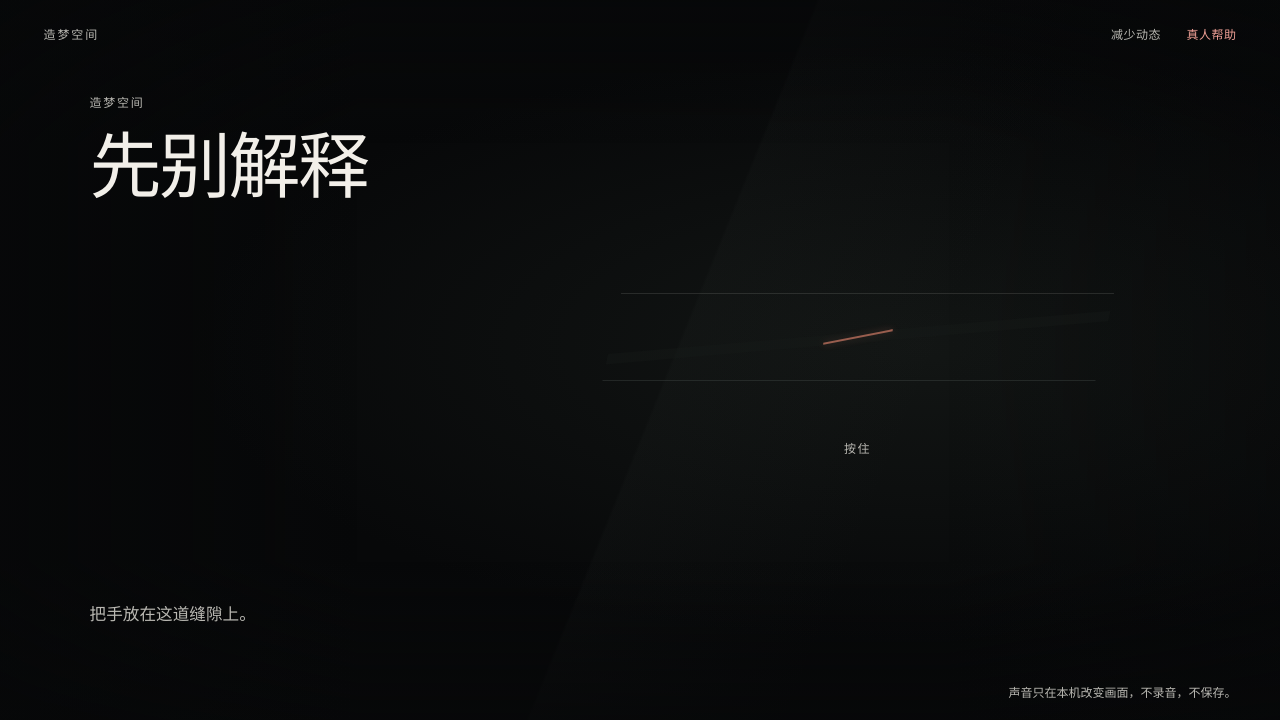
Test: Mindspace animation-first experience › moves from tactile sensing to a user-owned emotion word
Expected: the heading "先别解释" is shown, [90,115,368,213]
Press Enter in the button with aria-label "按住进入造梦空间", box [525,150,1190,525]
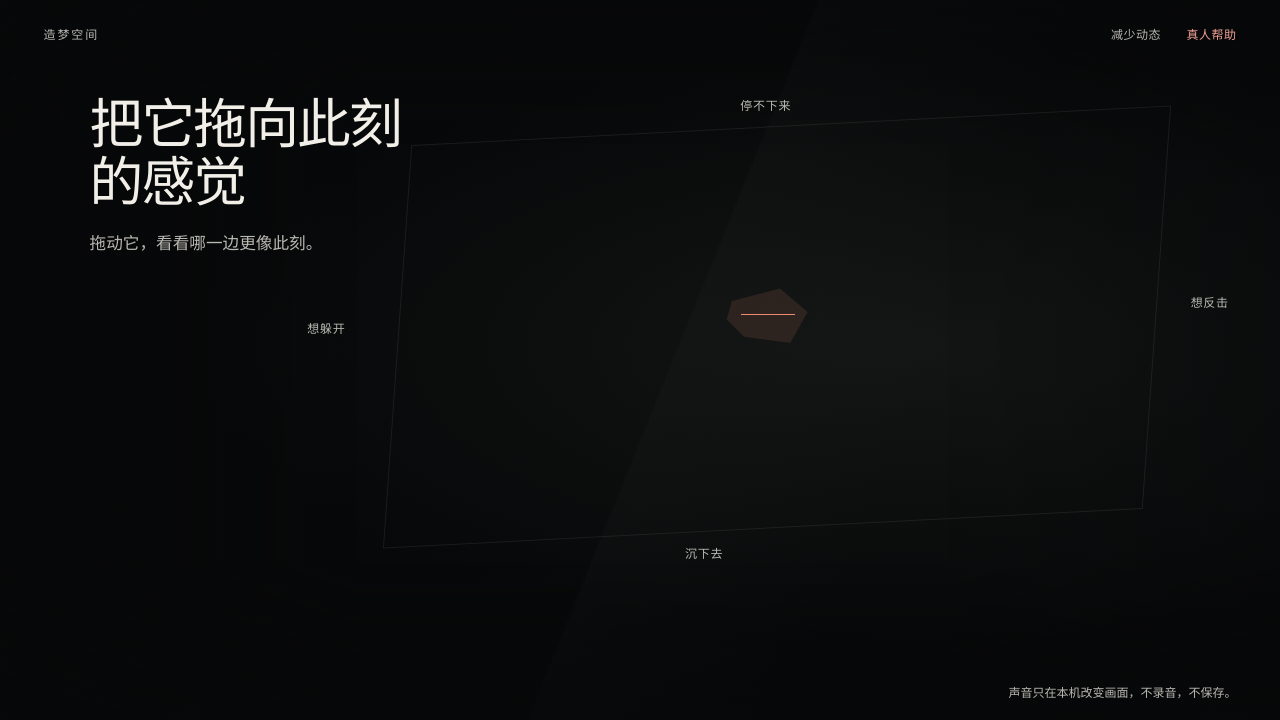
Press ArrowLeft in the button named "情绪核：使用方向键移动，按回车确认", box [725,286,811,348]
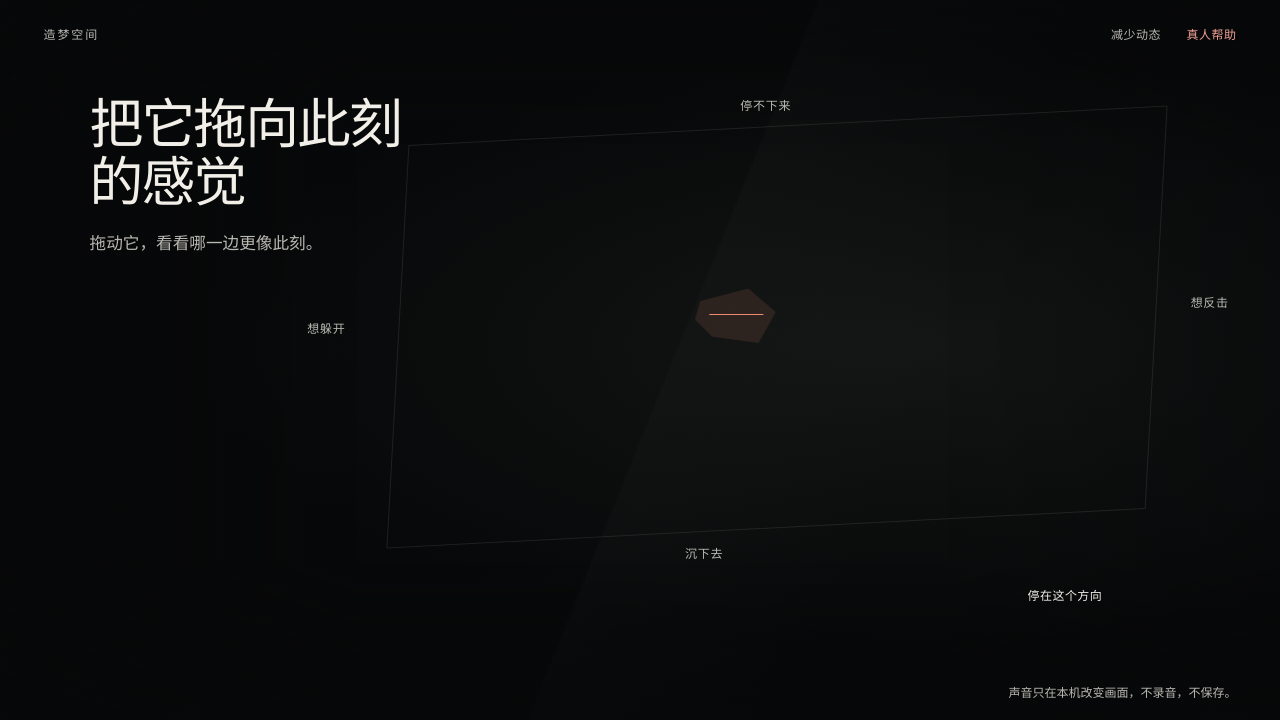
Press ArrowDown in the button named "情绪核：使用方向键移动，按回车确认", box [693,286,779,348]
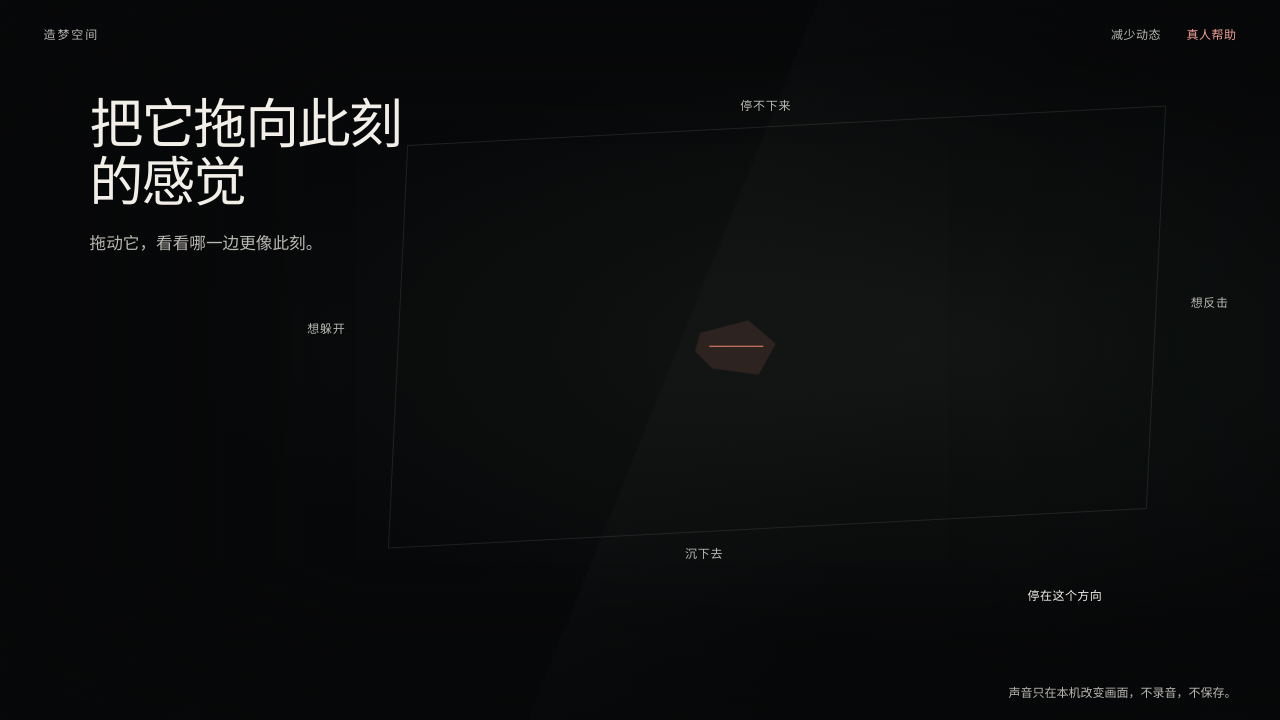
Press Enter in the button named "情绪核：使用方向键移动，按回车确认", box [693,318,779,380]
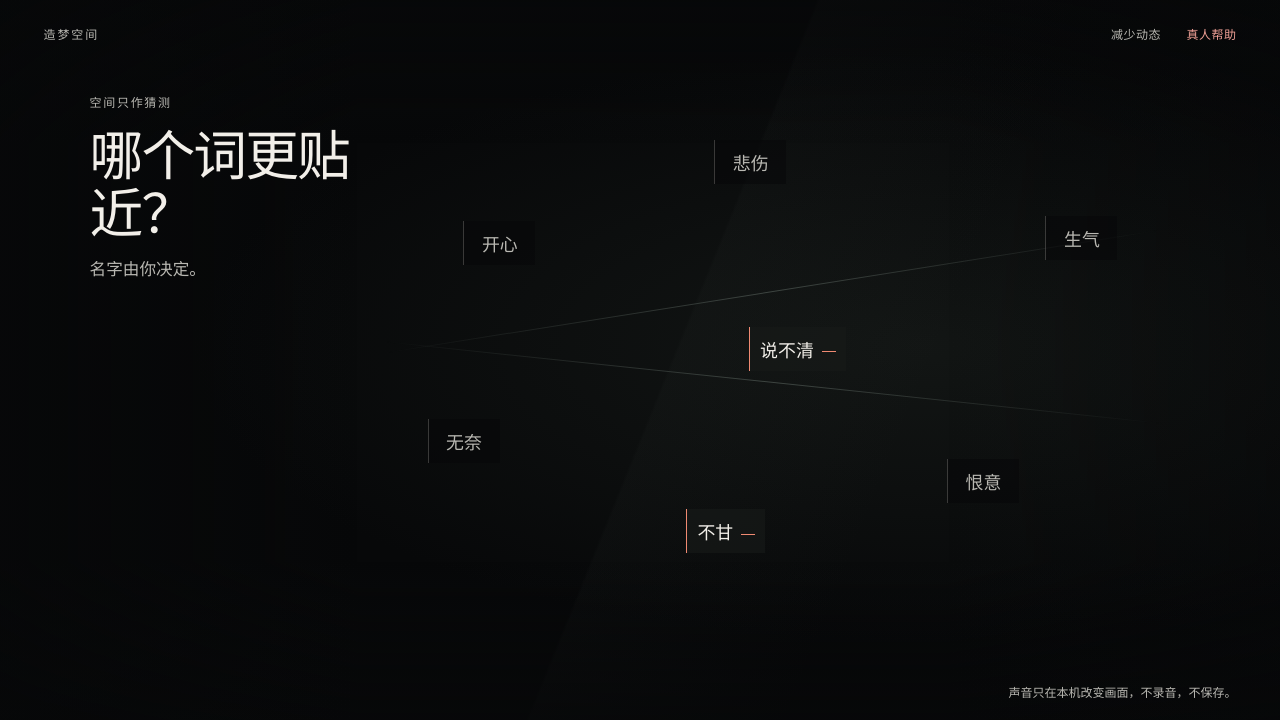
Click the button "不甘": (726, 531) [686,509,765,553]
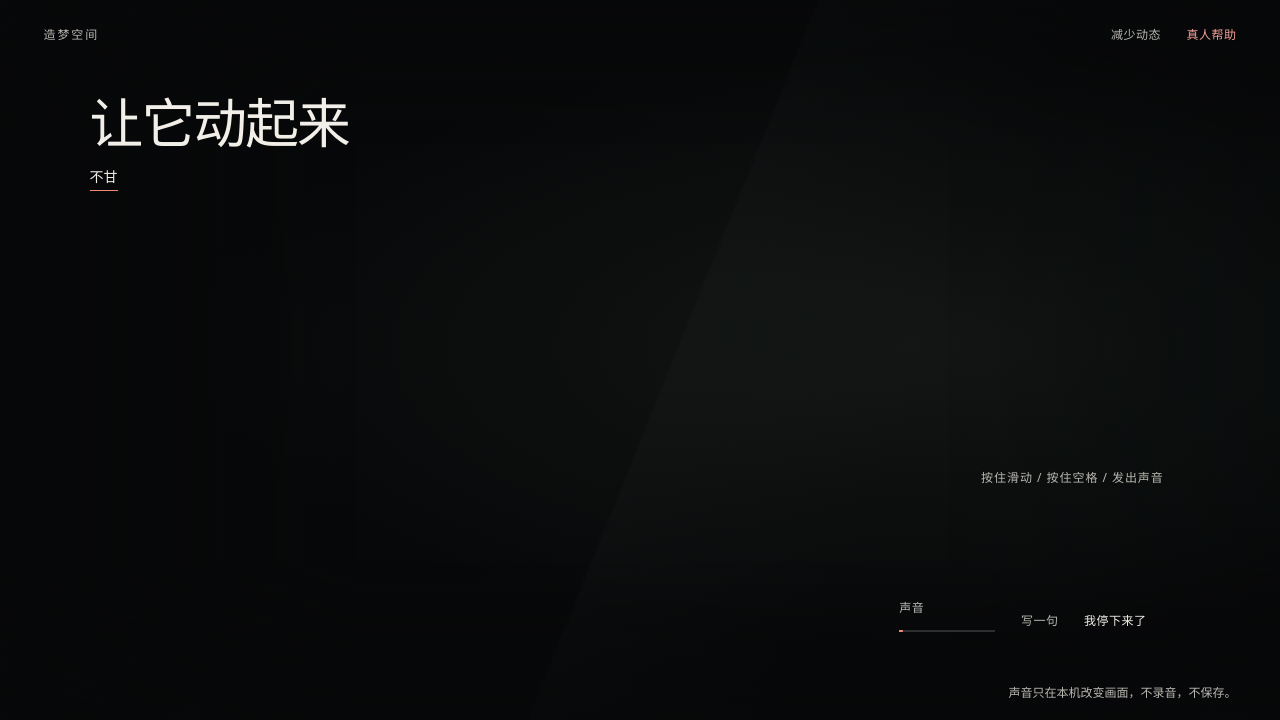
Now the text "不甘" is shown, box [90,166,118,191]
Now the heading "让它动起来" is shown, box [90,86,349,159]
